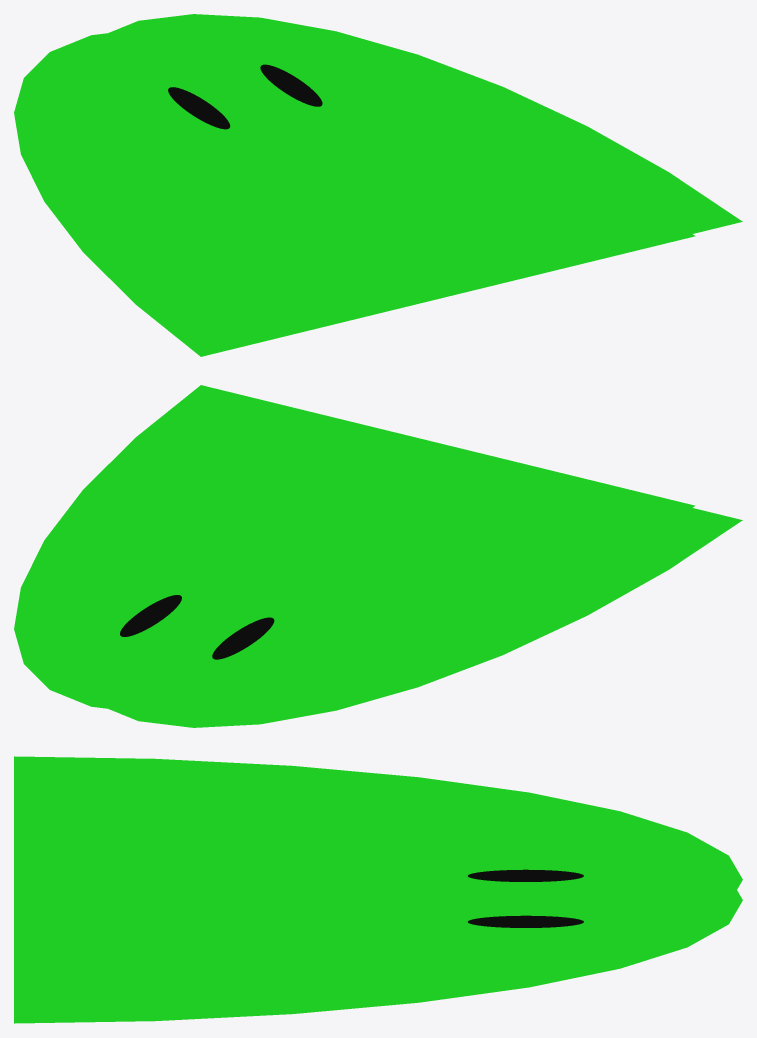
File: hill_type1.glb
The picture shows the model from 3 angles, top to bottom: view 1: azimuth 30°, elevation 25°; view 2: azimuth 150°, elevation 25°; view 3: azimuth 270°, elevation 25°; orthographic projection. The views are drawn at different scales.
Parts seen in each view (by area): view 1: Circle, Circle.003, Circle.001, Circle.002; view 2: Circle, Circle.003, Circle.001, Circle.002; view 3: Circle, Circle.003, Circle.002, Circle.001.
Part boxes in pixels (bbox=[...]): Circle: bbox=[61, 14, 742, 342]; Circle.003: bbox=[14, 33, 695, 356]; Circle.001: bbox=[168, 87, 230, 129]; Circle.002: bbox=[260, 64, 322, 106]; Circle: bbox=[14, 385, 695, 713]; Circle.003: bbox=[109, 508, 742, 727]; Circle.001: bbox=[212, 617, 274, 659]; Circle.002: bbox=[120, 595, 181, 636]; Circle: bbox=[14, 777, 742, 1023]; Circle.003: bbox=[14, 756, 742, 889]; Circle.002: bbox=[468, 915, 583, 927]; Circle.001: bbox=[468, 869, 583, 881].
Bounding box in the file's own units: 4.38 × 0.0344 × 5.
